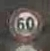limite 60: (7, 6, 44, 41)
